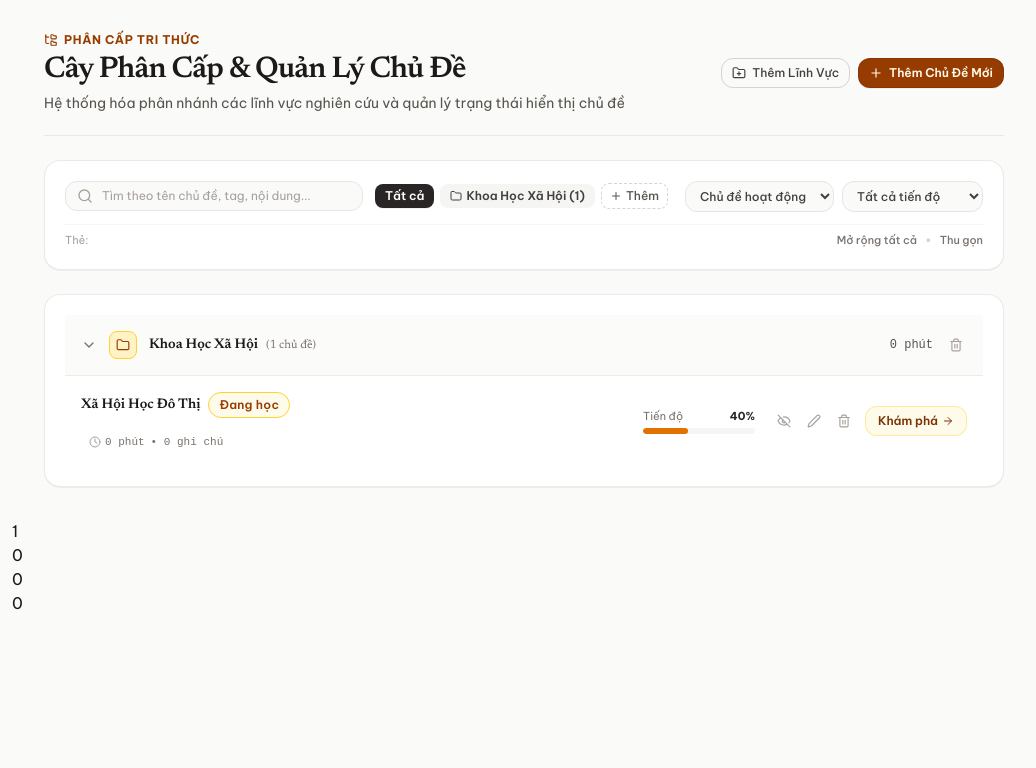
Scenario: Post-Phase 5: Dynamic Taxonomy & Topic Visibility UI Integration Tests › 3. TopicTree allows soft-hiding an active topic and restoring it without losing notes or resources
Expected: the heading "Cây Phân Cấp & Quản Lý Chủ Đề" is shown, [44,52,466,88]
Step 1. Click the button titled "Ẩn chủ đề" → (784, 421), box [771,408,797,434]
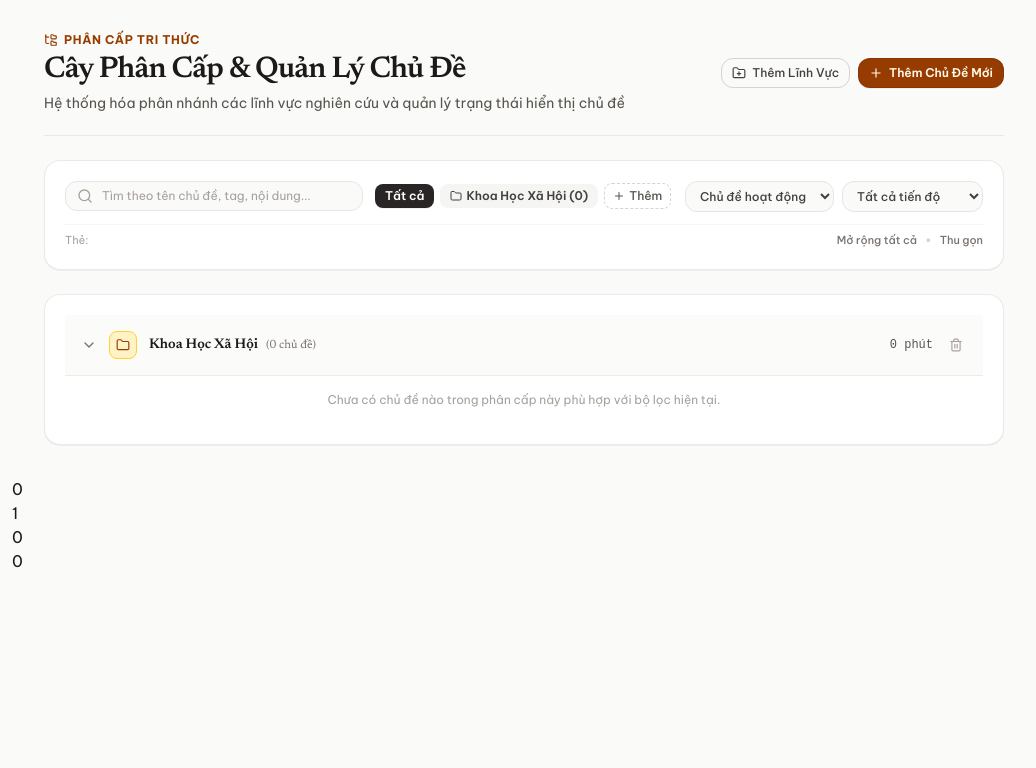
Expected: the text with test id "notes-count" reads "0", [12,527,23,547]
Expected: the text with test id "resources-count" reads "0", [12,551,23,571]
Note: Switch visibility filter to "Chủ đề đã ẩn"
Step 2. Select "Chủ đề đã ẩn" in the 1st dropdown showing "Chủ đề hoạt động" → (760, 196), box [685,181,834,212]
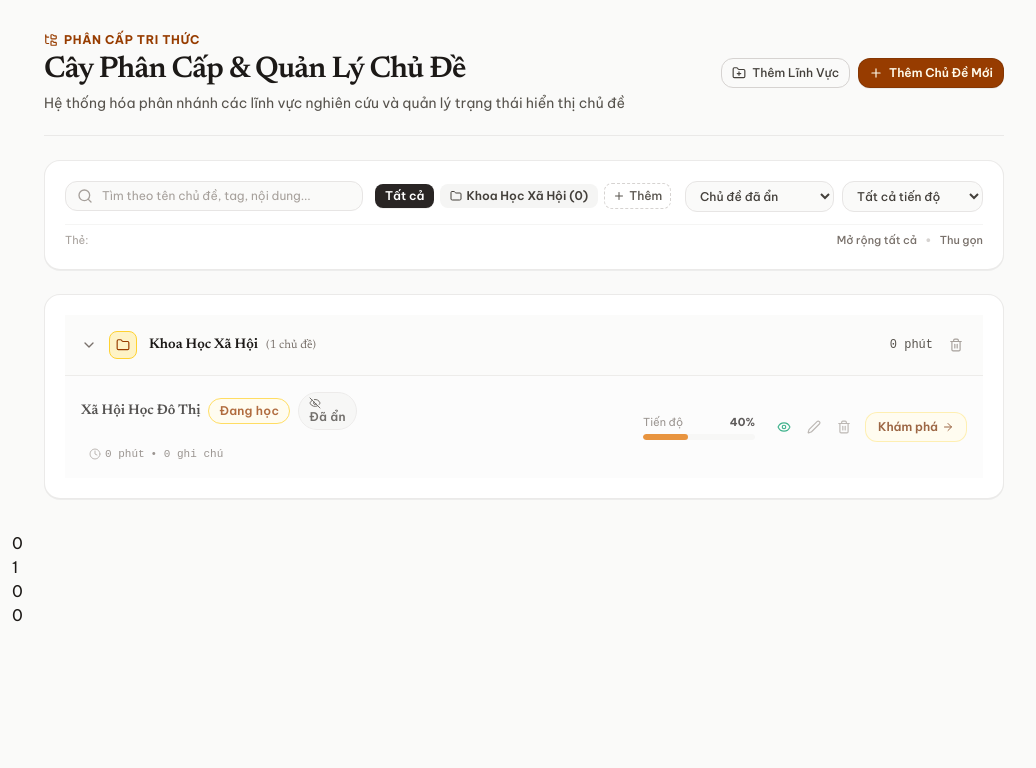
Result: the button titled "Khôi phục hiển thị chủ đề" is shown
Note: Restore it
Step 3. Click the button titled "Khôi phục hiển thị chủ đề" → (784, 427), box [771,414,797,440]
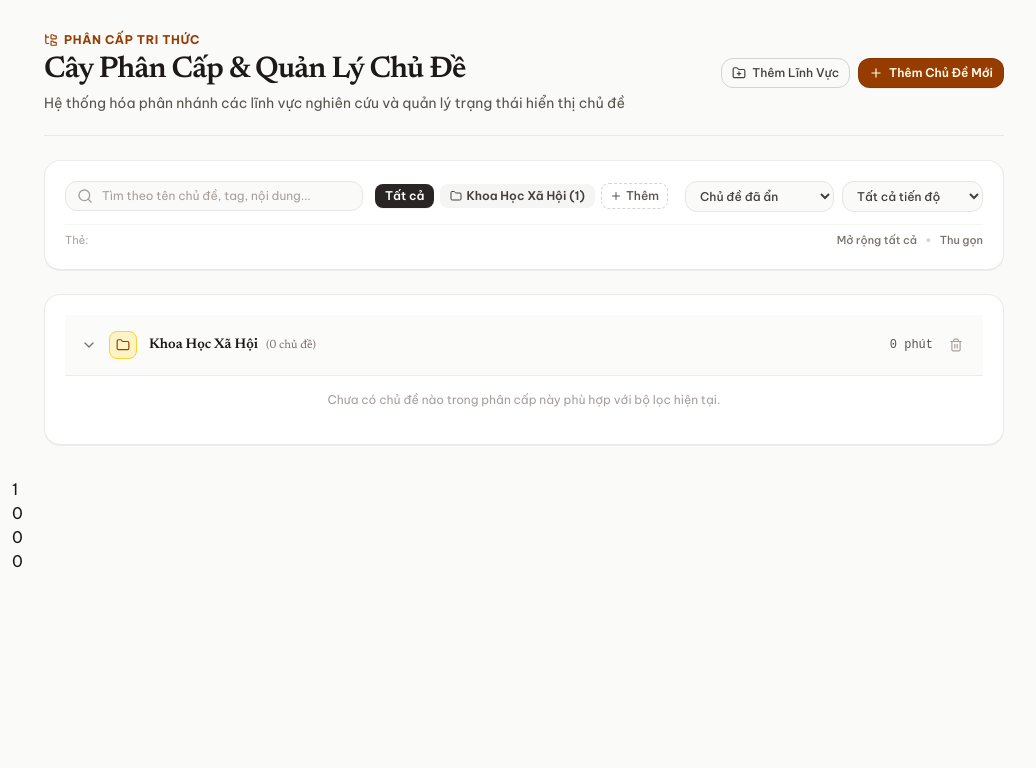
Note: Switch back to active
Step 4. Select "Chủ đề hoạt động" in the 1st dropdown showing "Chủ đề hoạt động" → (760, 196), box [685,181,834,212]
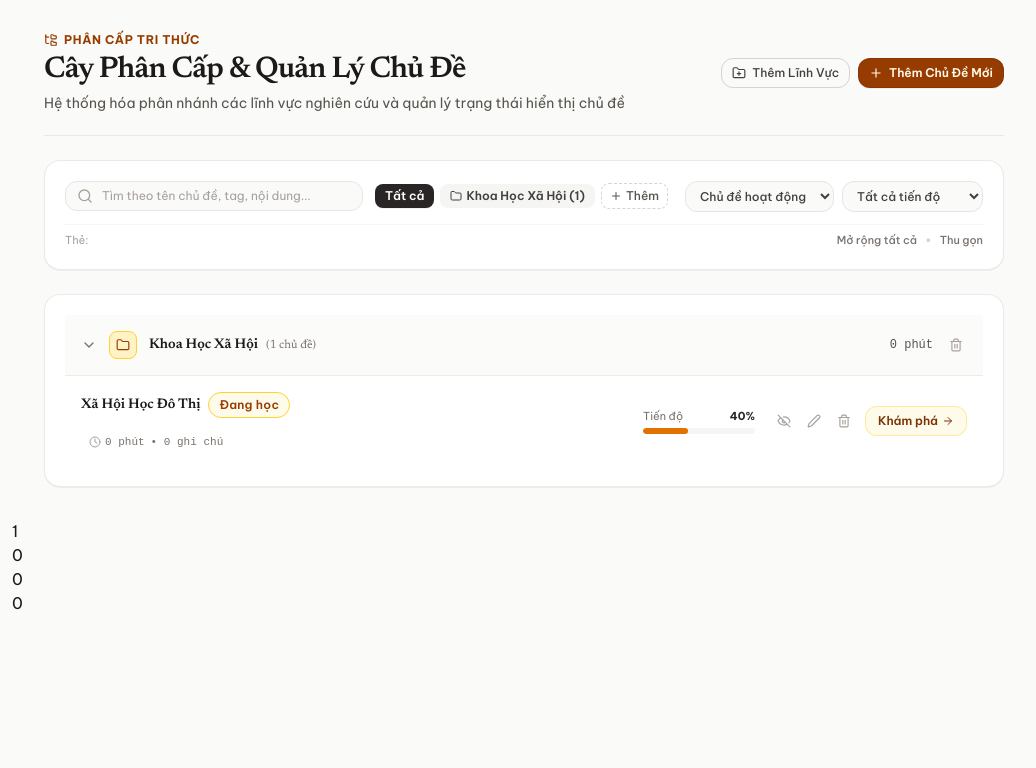
Result: the number of buttons titled "Ẩn chủ đề" is 1 at [771,408,797,434]
